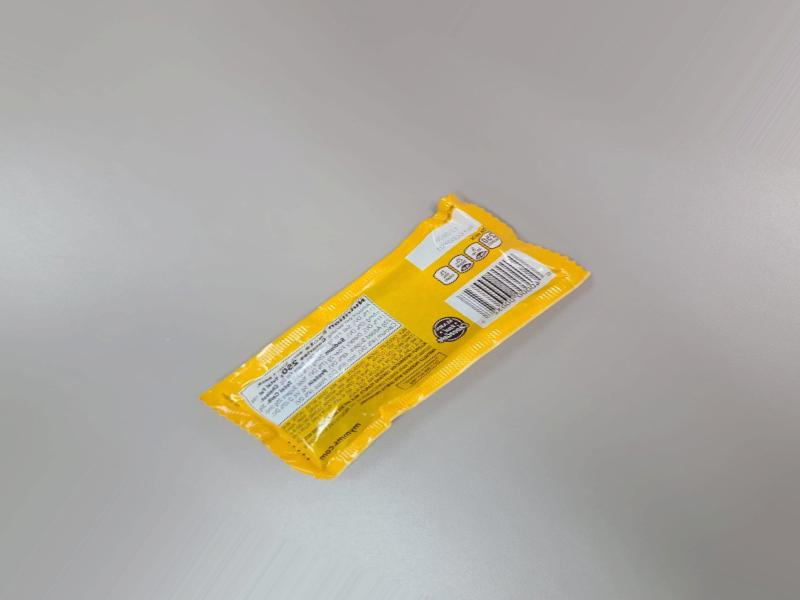m&m: (225, 177, 586, 500)
